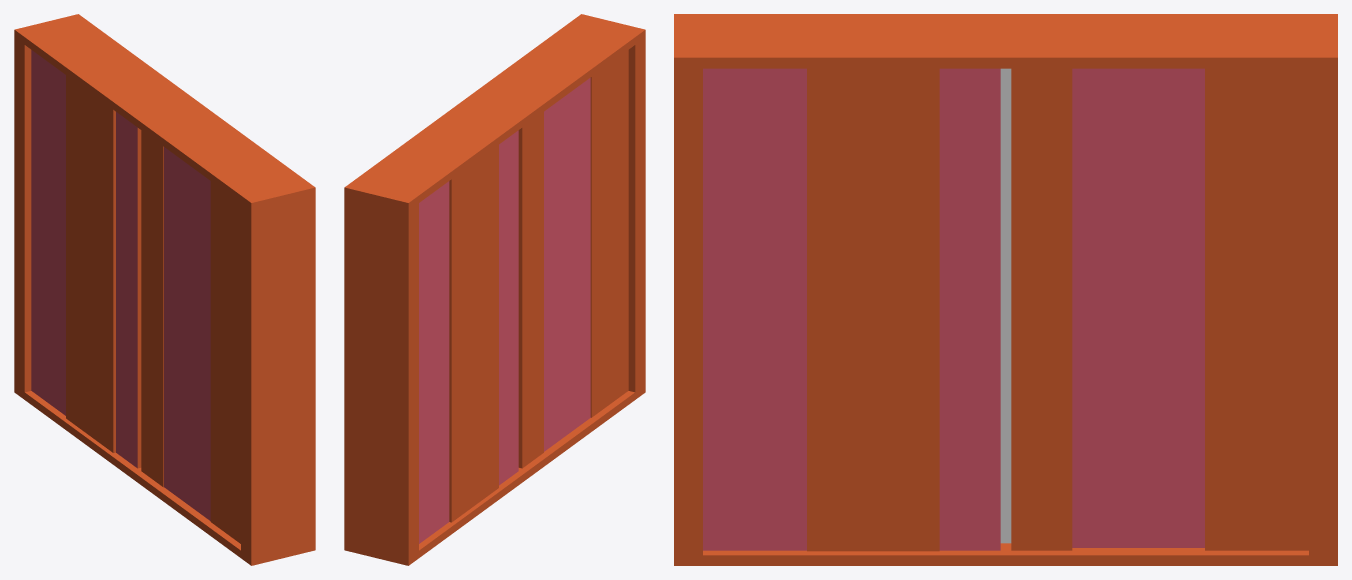
Rendered from Janelao.fbx.
3 views of the same model, side by side, from view 1: azimuth 30°, elevation 25°; view 2: azimuth 150°, elevation 25°; view 3: azimuth 270°, elevation 25° (orthographic). The views are drawn at different scales.
Visible parts, largest first — view 1: Janela; view 2: Janela; view 3: Janela.
Part boxes in pixels (box(x1,y1,x2,y2)): Janela: box(14, 14, 315, 565); Janela: box(344, 14, 645, 565); Janela: box(674, 14, 1337, 565).
Size of the model in its own units: 39.73 by 215 by 255.
